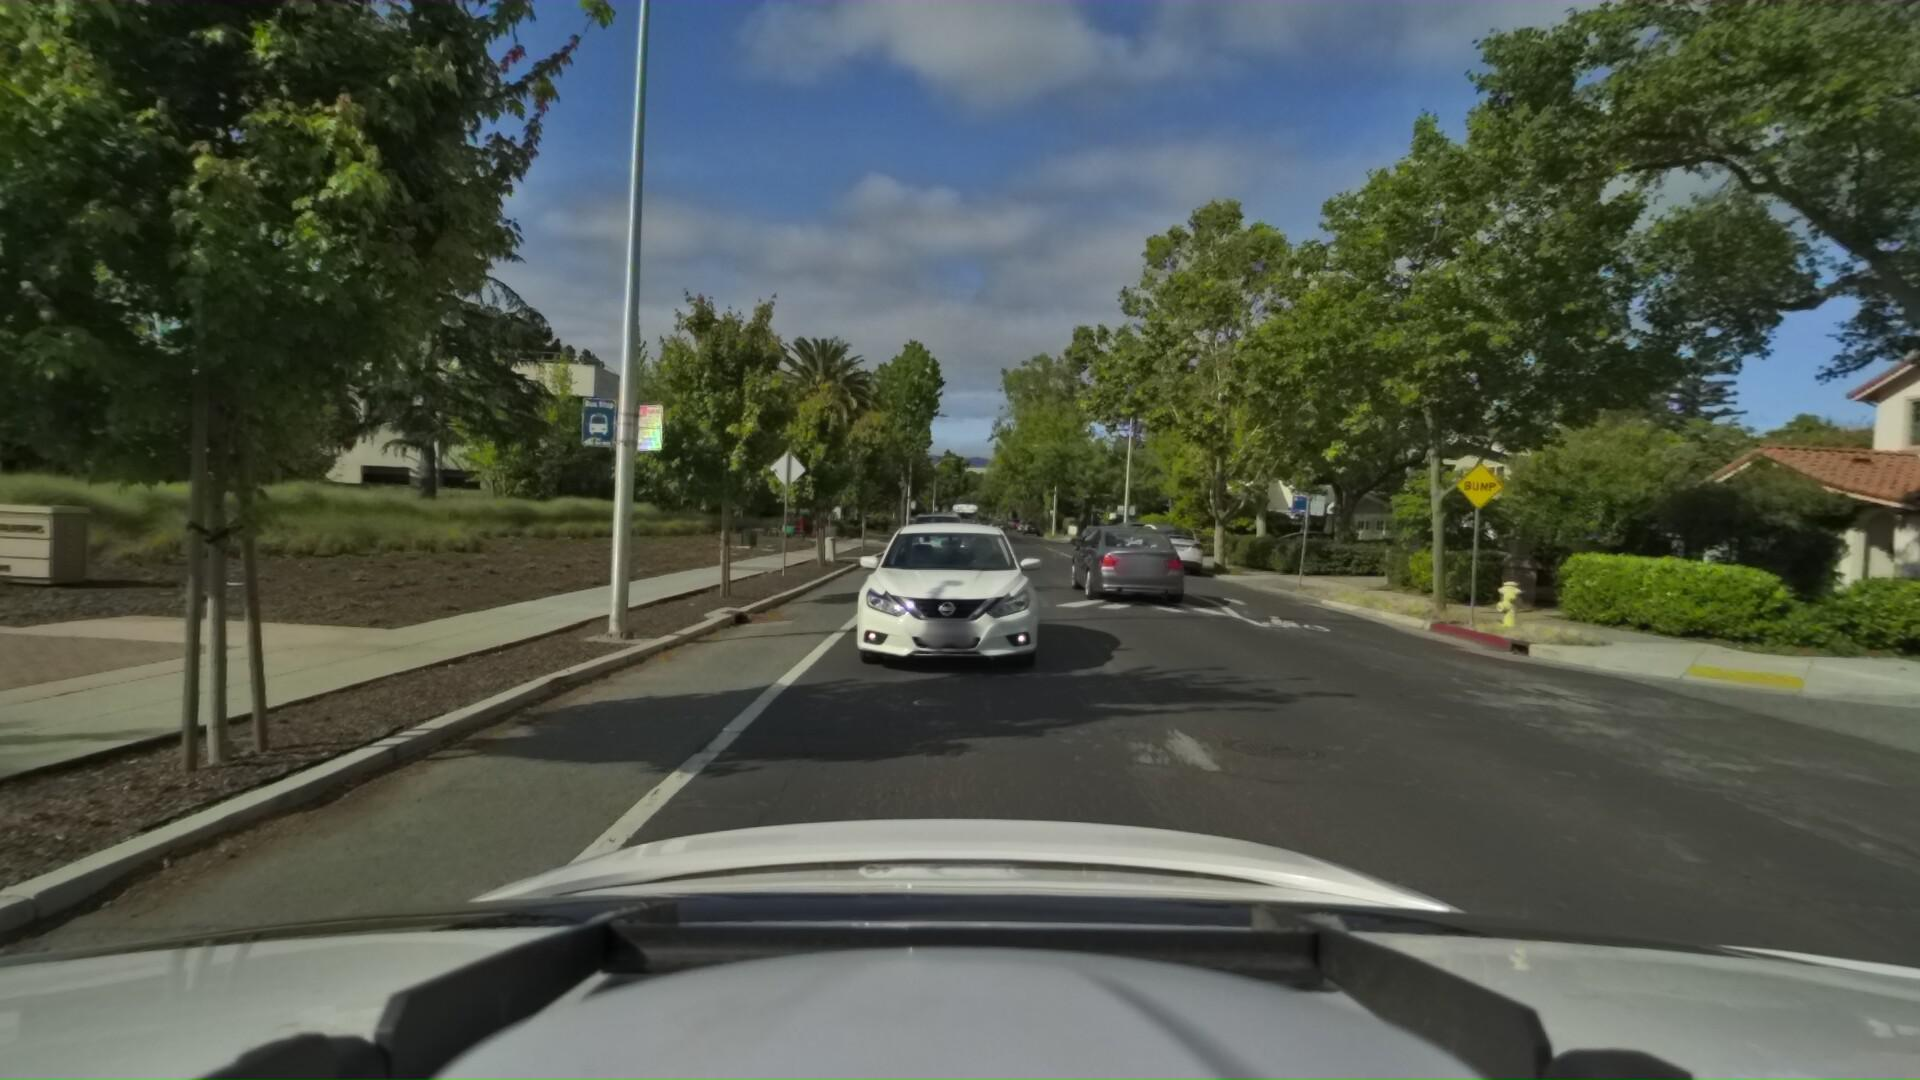car: (835, 505, 1062, 686), (1064, 516, 1189, 603), (1116, 518, 1208, 574), (897, 502, 968, 568), (1096, 516, 1168, 568)
